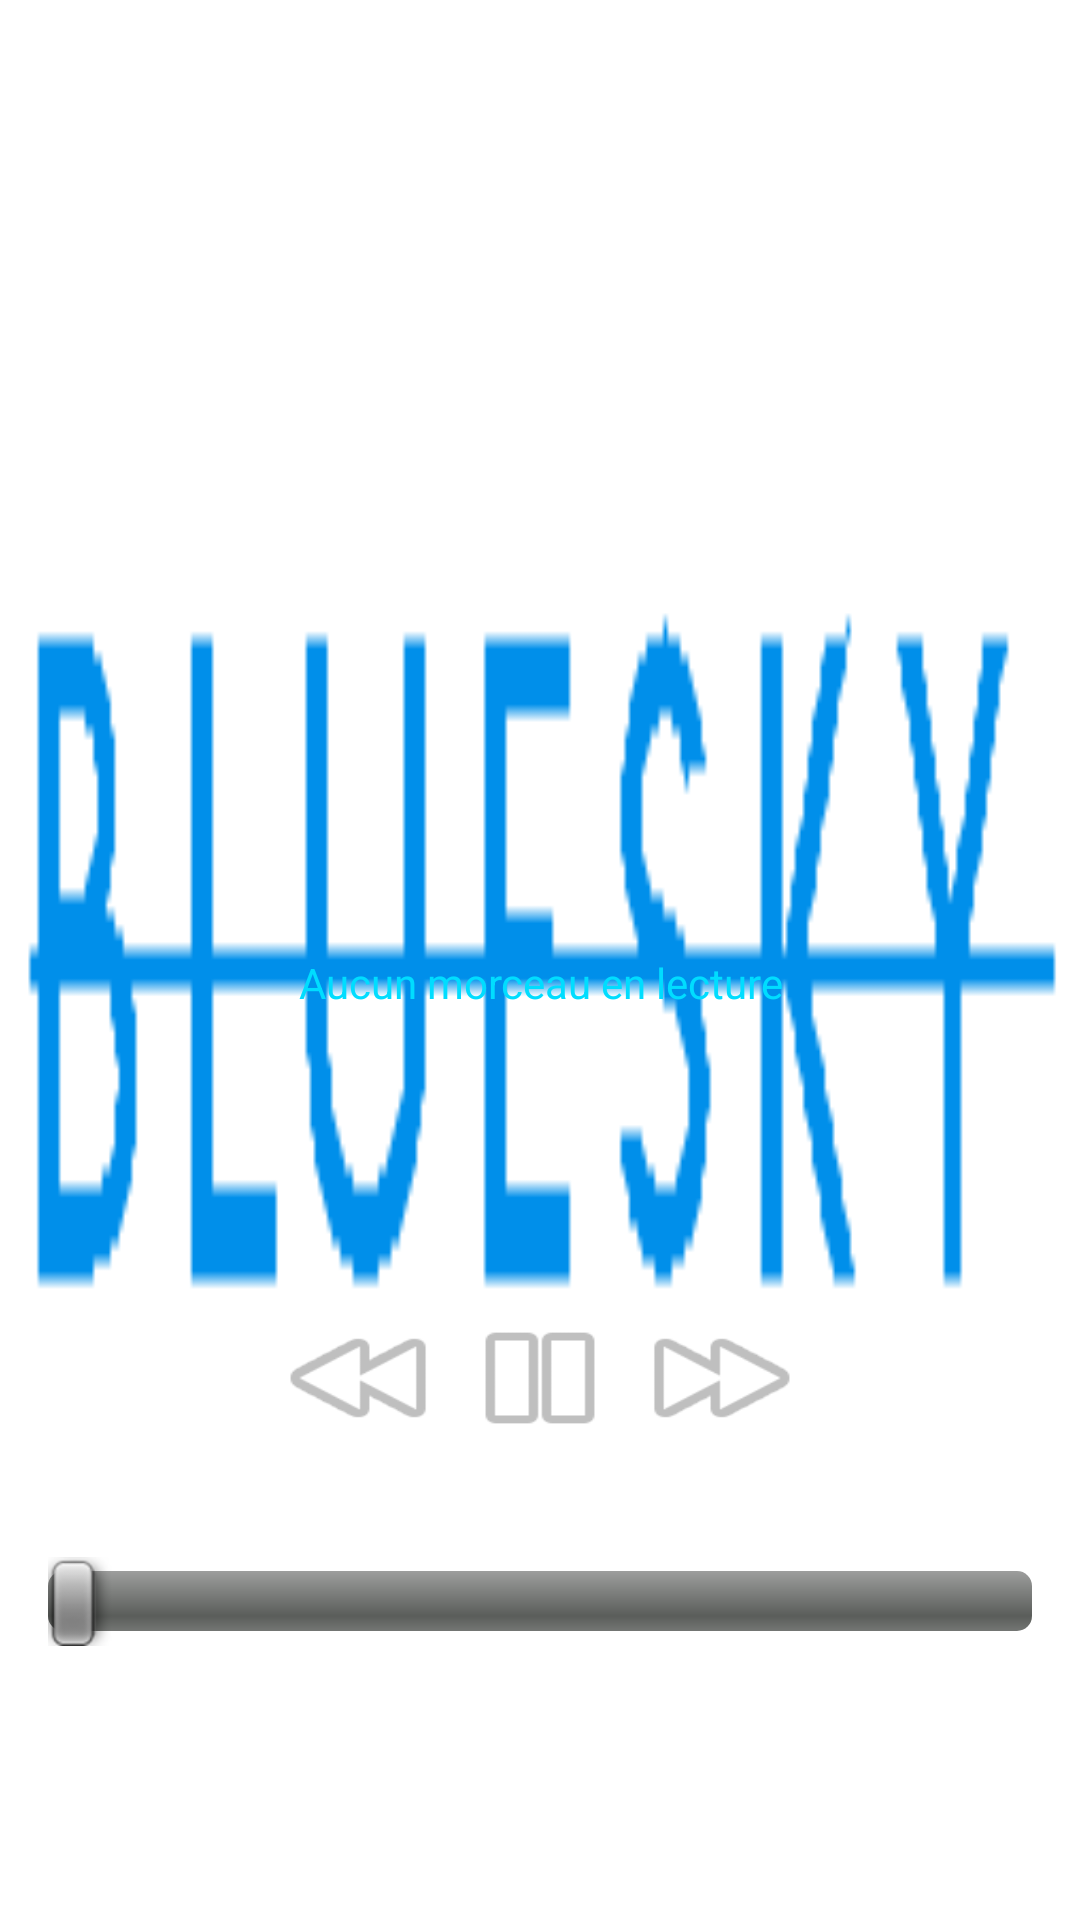

Named icons in this screenshot (1080w x 1920h) and their bounding boxes, (x1, y1, x2, y2):
pause: (485, 1332, 595, 1423)
rew: (290, 1339, 426, 1417)
